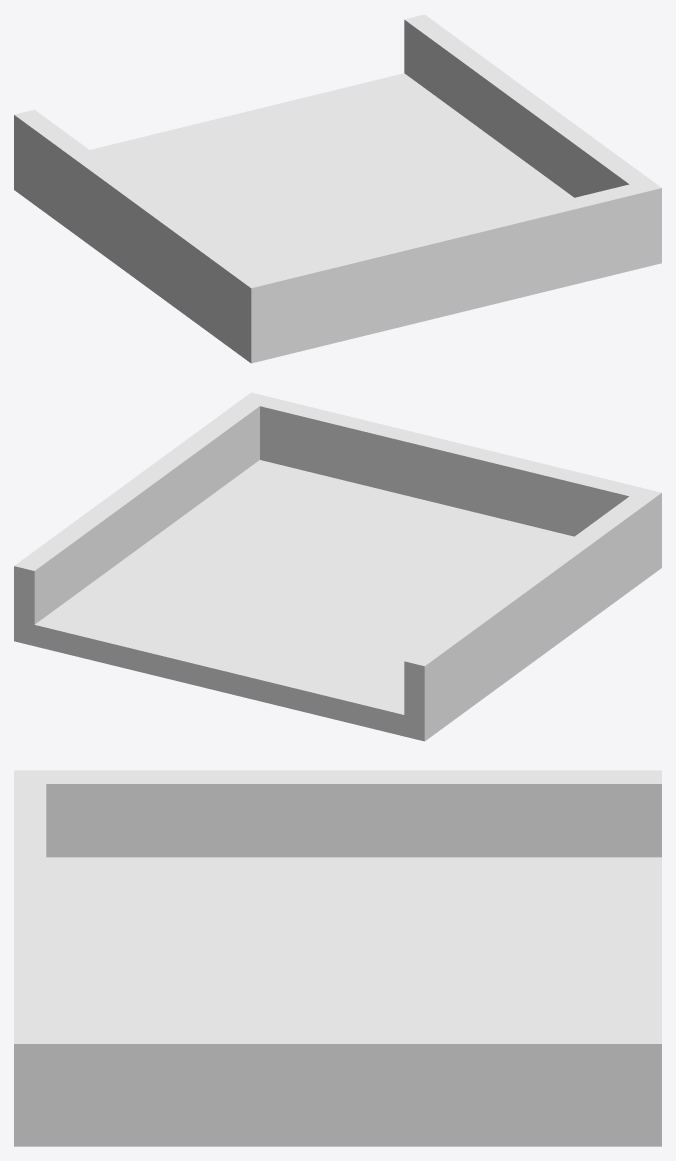
Rendered from WhiteRoof_3Edges.glb.
3 views of the same model, one above another, from view 1: azimuth 30°, elevation 25°; view 2: azimuth 150°, elevation 25°; view 3: azimuth 270°, elevation 25° (orthographic). The views are drawn at different scales.
Parts seen in each view (by area): view 1: roof_flat_3Edges_white; view 2: roof_flat_3Edges_white; view 3: roof_flat_3Edges_white.
Boxes of the visible parts, <box> form: roof_flat_3Edges_white: <box>14,14,661,363</box>; roof_flat_3Edges_white: <box>14,392,661,741</box>; roof_flat_3Edges_white: <box>14,770,661,1146</box>.
Size of what is drawn, in the model's own units: 4 by 0.7 by 4.
Materials: 1 (1 with a texture image).
